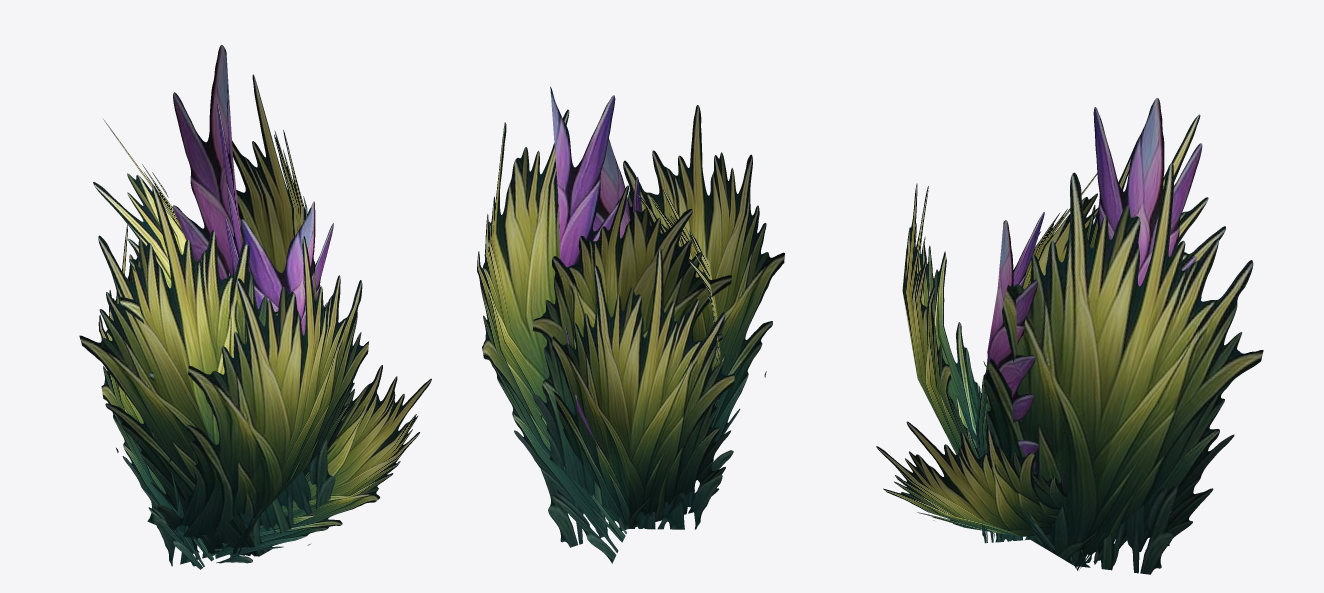
The model's file is Foliage_01.fbx.
3 views of the same model, side by side, from view 1: azimuth 30°, elevation 25°; view 2: azimuth 150°, elevation 25°; view 3: azimuth 270°, elevation 25° (orthographic). The views are drawn at different scales.
Parts seen in each view (by area): view 1: Leaf_01; view 2: Leaf_01; view 3: Leaf_01.
Boxes of the visible parts, left/top/right/bottom form: Leaf_01: left=79, top=45, right=431, bottom=569; Leaf_01: left=477, top=86, right=784, bottom=563; Leaf_01: left=876, top=98, right=1263, bottom=574.
Size of the model in its own units: 132 by 220 by 180.
Materials: 1 (1 with a texture image).
